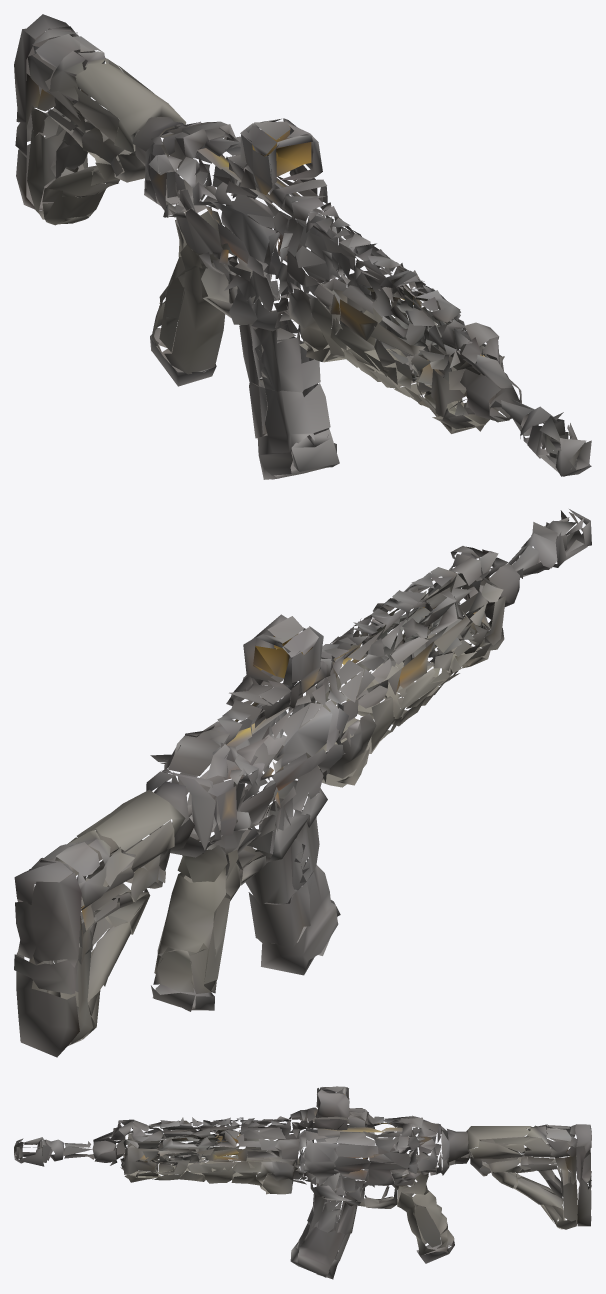
Rendered from enemy-weapon-v1.glb.
3 renders of one model, top to bottom at view 1: azimuth 30°, elevation 25°; view 2: azimuth 150°, elevation 25°; view 3: azimuth 270°, elevation 25°, orthographic. The views are drawn at different scales.
Visible parts, largest first — view 1: enemy-weapon; view 2: enemy-weapon; view 3: enemy-weapon.
Boxes of the visible parts, x1,y1,x2,y2 form: enemy-weapon: (14,14,591,479); enemy-weapon: (14,509,591,1057); enemy-weapon: (14,1086,591,1279).
Size of the model in its own units: 0.0982 by 0.3231 by 0.9.
